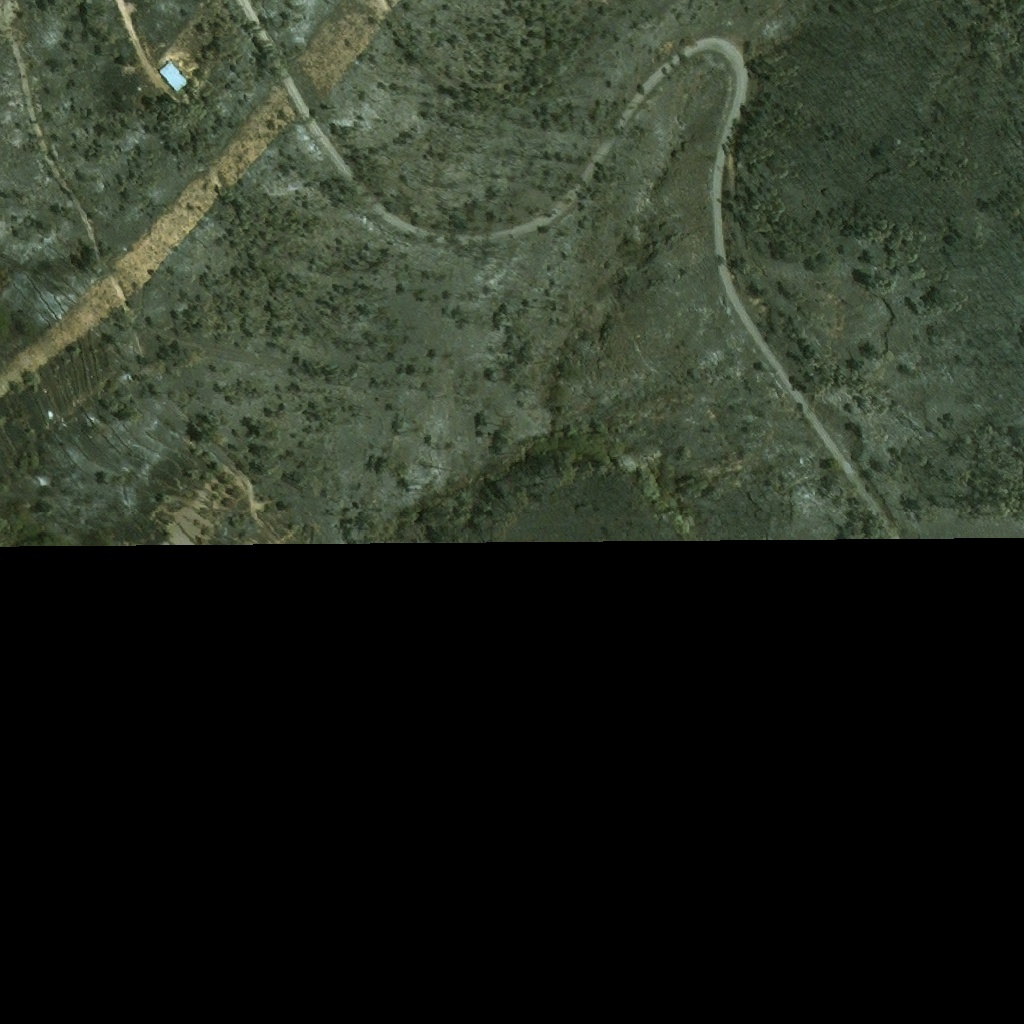0 no-damage: (160, 60, 189, 93)
